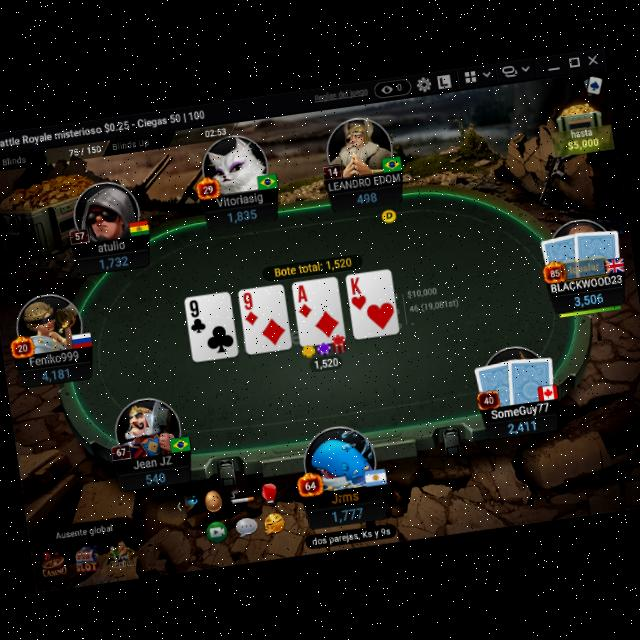9c: (186, 294, 208, 334)
9d: (240, 287, 261, 326)
Ad: (293, 280, 315, 318)
Kh: (346, 272, 368, 309)
bet_text: (313, 352, 340, 368)
card_back: (568, 220, 624, 276), (503, 348, 559, 404), (537, 228, 585, 280), (472, 355, 518, 407)
dealer: (379, 205, 398, 222)
pot_text: (272, 254, 354, 278)
stack_text: (329, 500, 365, 522), (572, 288, 604, 306), (226, 204, 258, 222), (99, 250, 130, 268), (507, 414, 538, 432), (40, 362, 71, 379), (143, 466, 167, 483), (355, 185, 379, 202)
